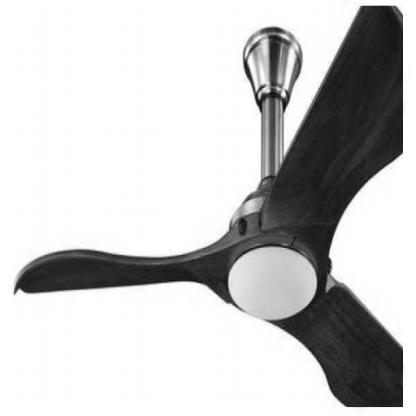ceiling-fan: (12, 6, 404, 408)
